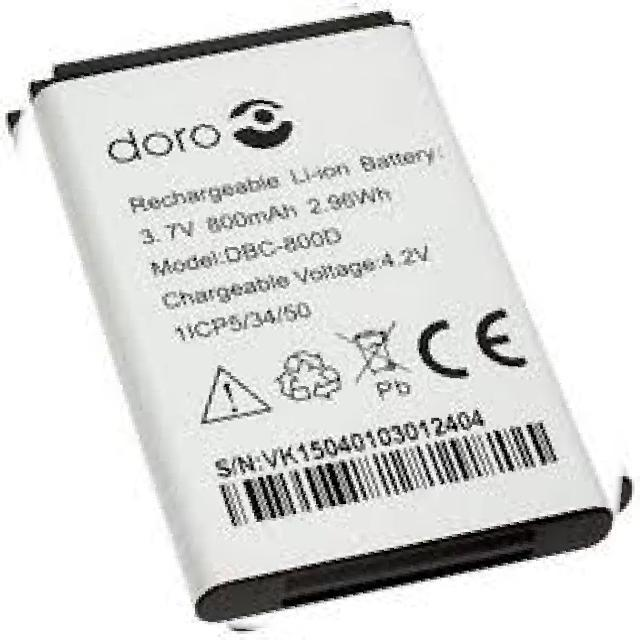Battery: (29, 0, 615, 620)
